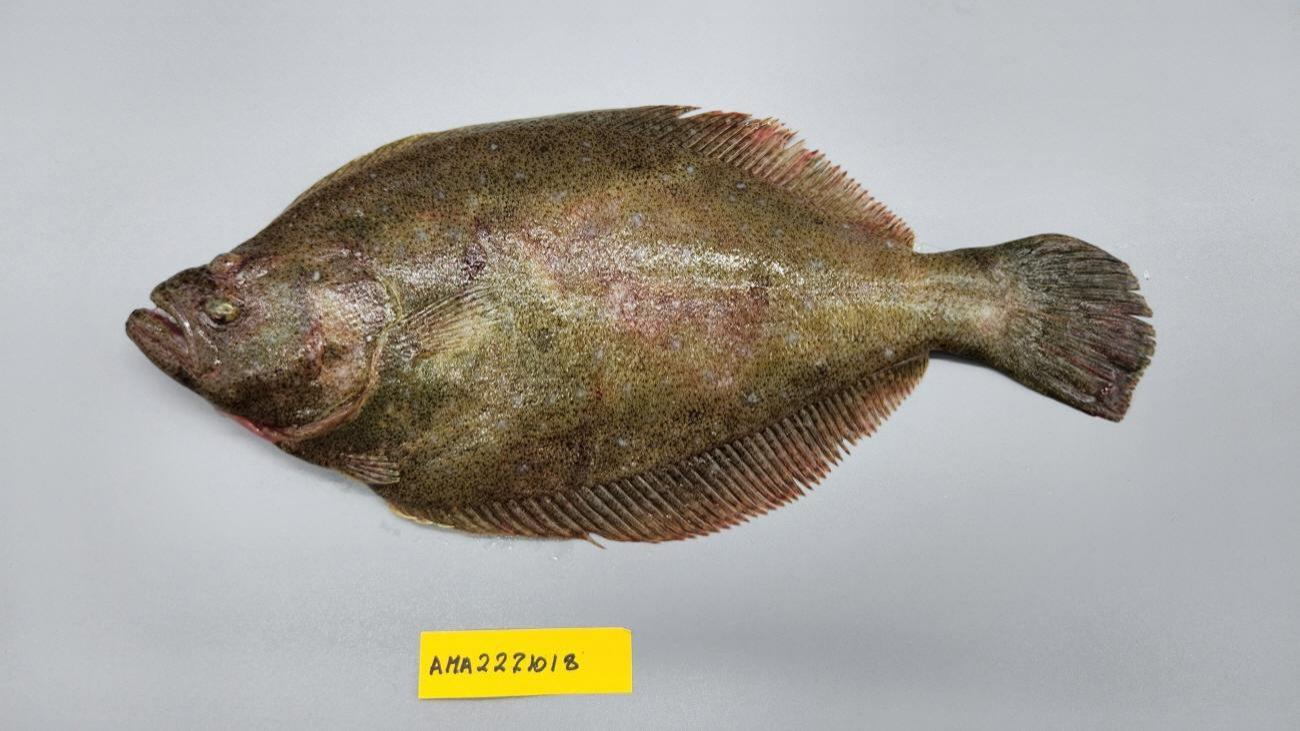MADYU: (375, 203, 770, 376)
MAFAH: (444, 351, 929, 545)
MAFCH: (1015, 233, 1157, 423)
MAOUY: (124, 110, 1158, 542)
